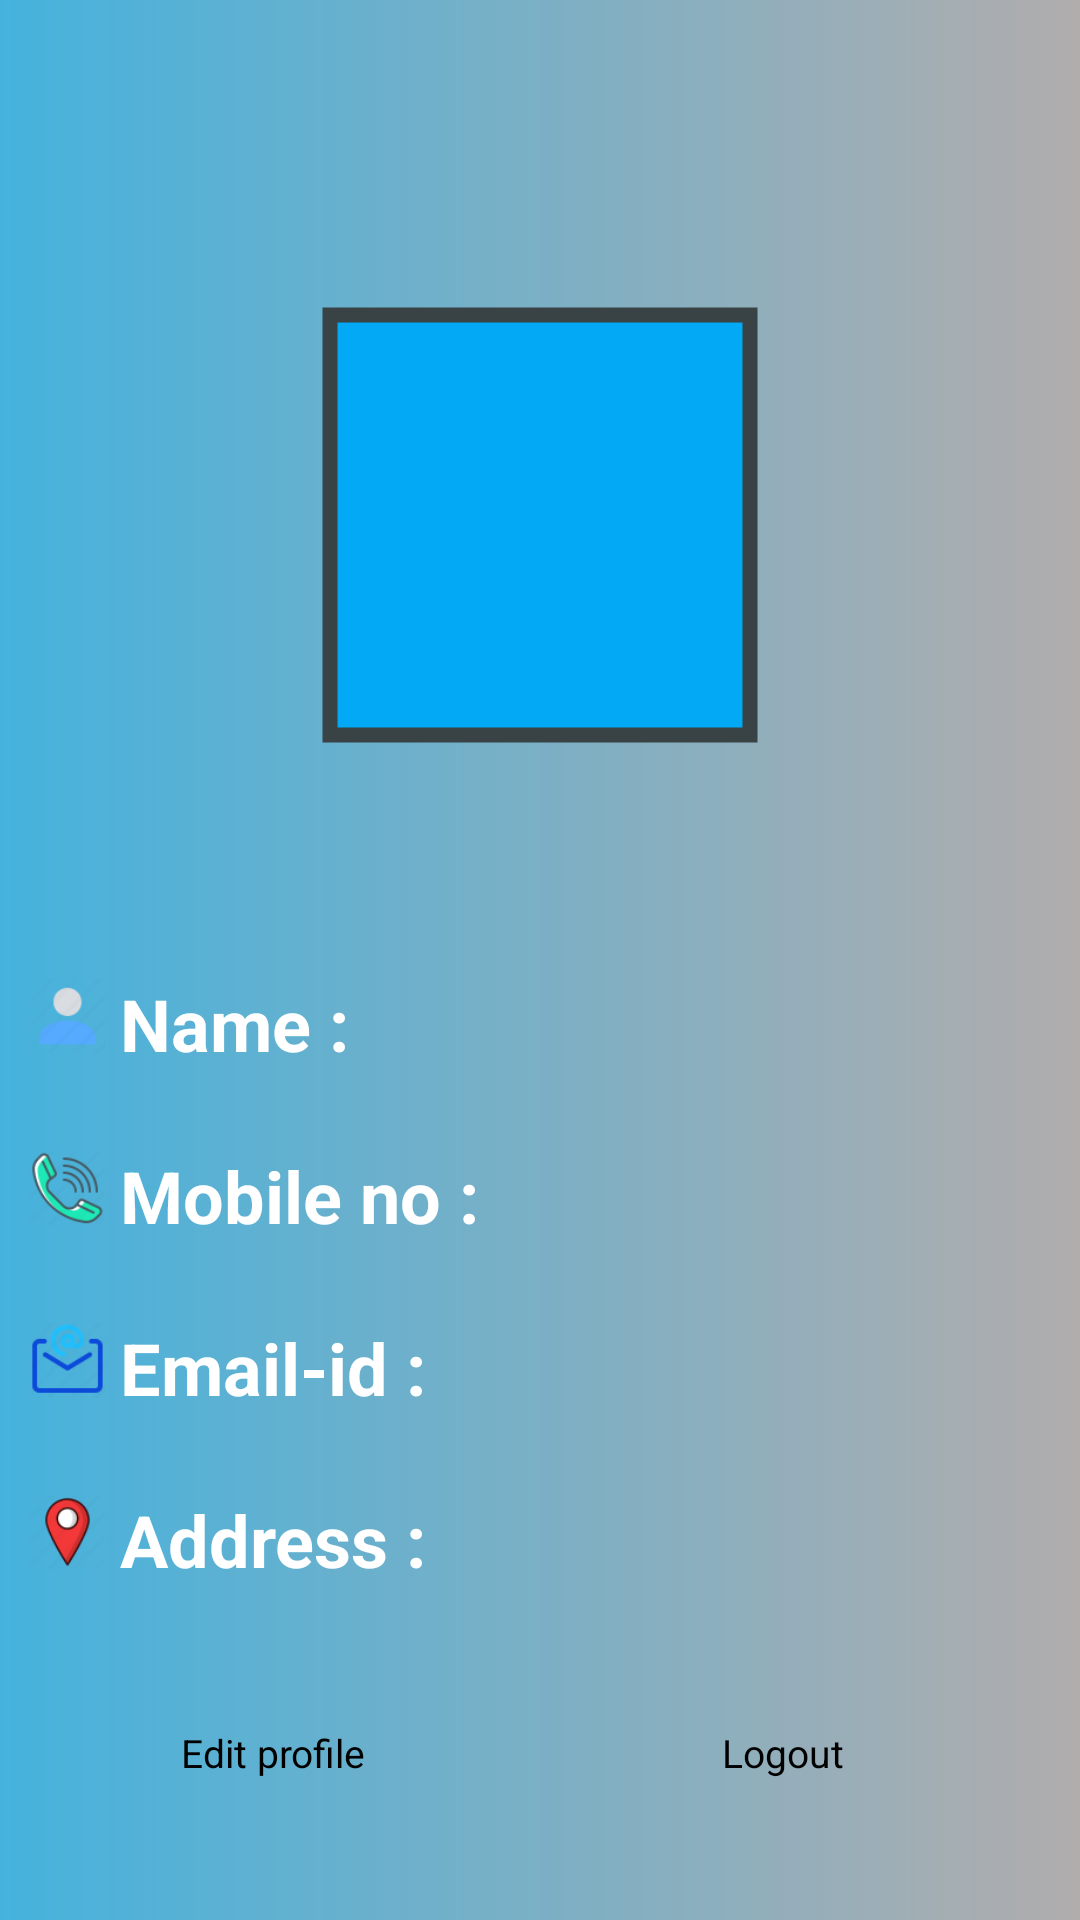

Named icons in this screenshot (1080 × 1920) and their bounding boxes, (x1, y1, x2, y2):
persons: (40, 987, 95, 1044)
